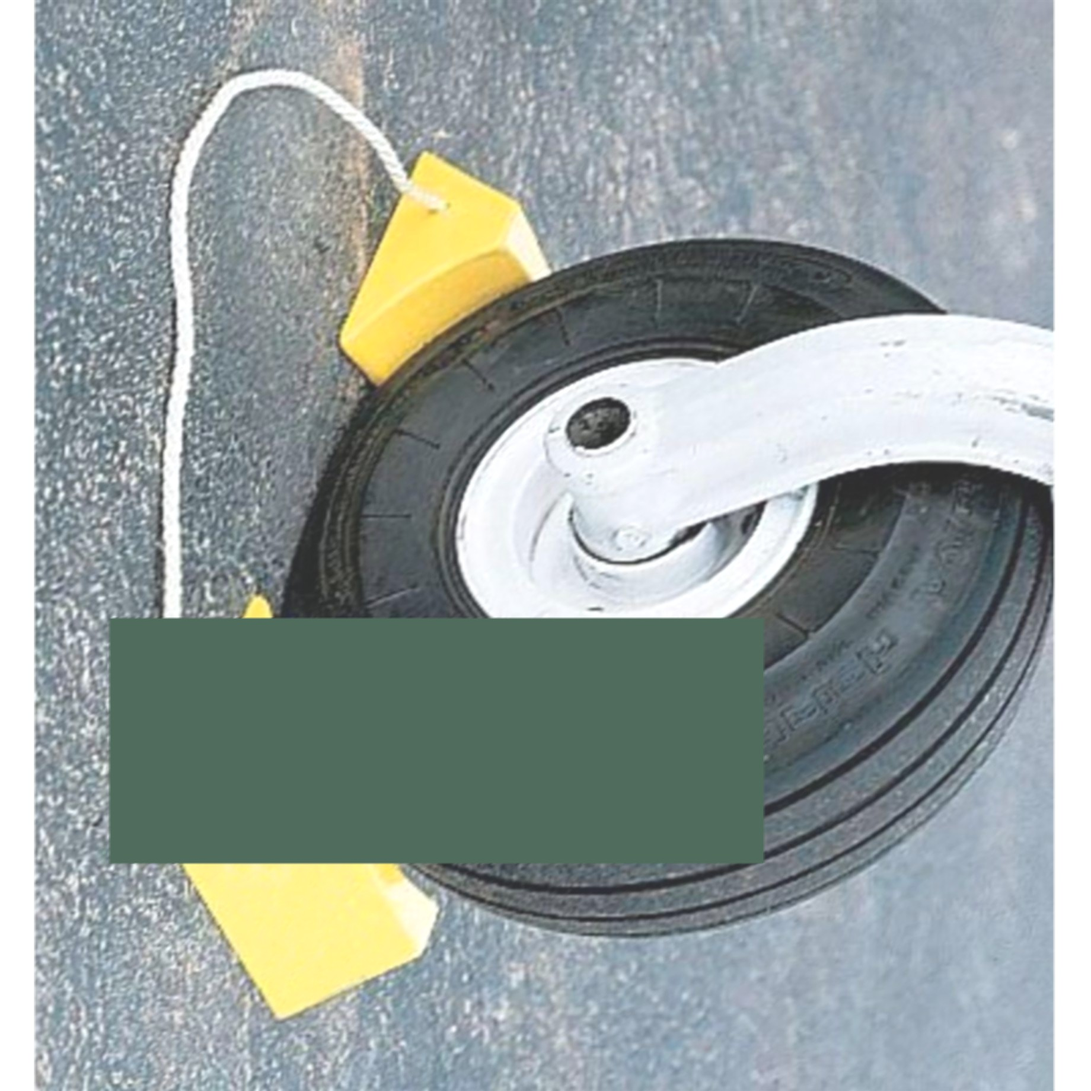chock: (159, 596, 438, 1022), (338, 145, 568, 460)
wheel: (274, 230, 1054, 940)
